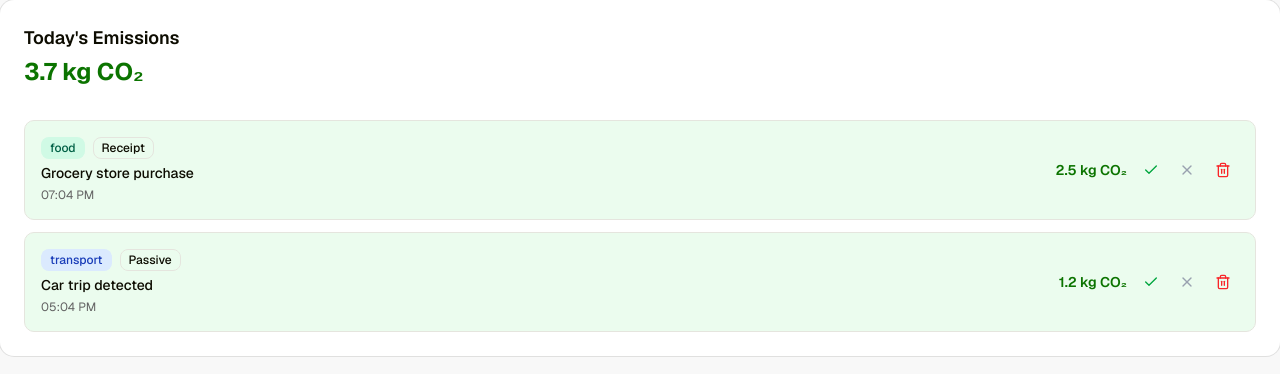
Test case: TodayFootprint Component › deletes a footprint when delete button is clicked
The width and height of the screenshot is (1280, 374).
Click the button named "delete".
click(1223, 170)  # box 1207,154 -> 1239,186
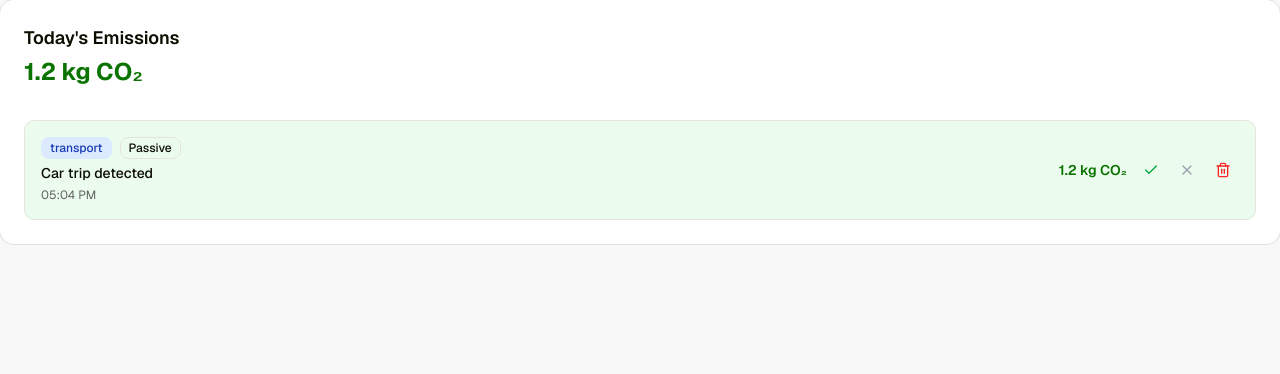
expect the number of list items is 1: met, box 24,120 -> 1256,220
